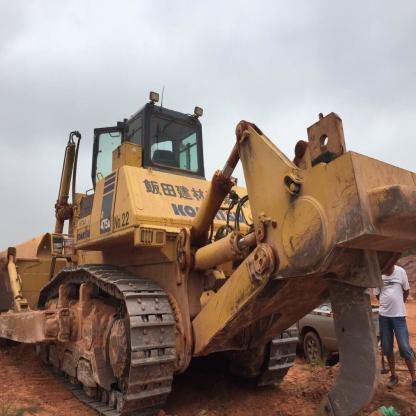bull_dozer/loader/grader: (8, 86, 416, 411)
